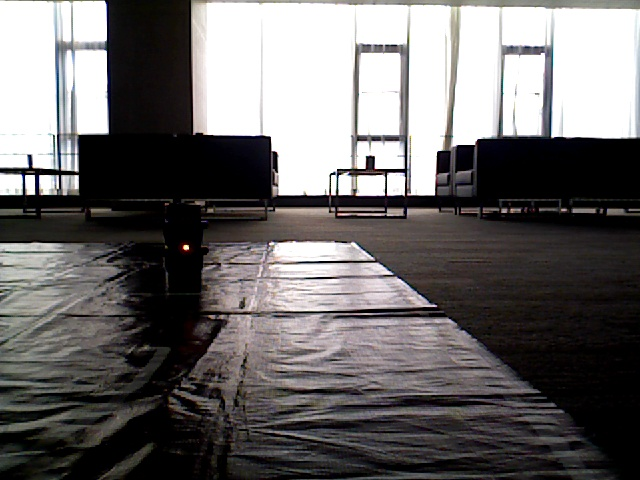yellow: (169, 201, 204, 288)
